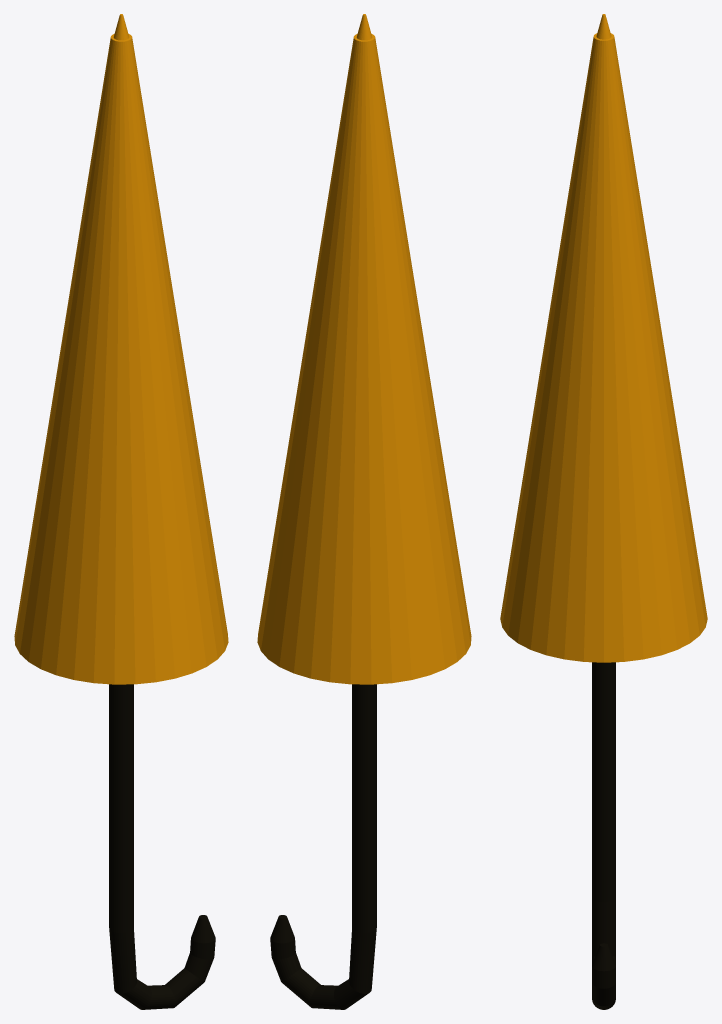
File: umbrella.fbx
3 views of the same model, side by side, from view 1: azimuth 30°, elevation 25°; view 2: azimuth 150°, elevation 25°; view 3: azimuth 270°, elevation 25° (orthographic). The views are drawn at different scales.
Parts seen in each view (by area): view 1: Cylinder.005; view 2: Cylinder.005; view 3: Cylinder.005.
Boxes of the visible parts, x1,y1,x2,y2 form: Cylinder.005: [14, 14, 228, 1009]; Cylinder.005: [257, 14, 471, 1009]; Cylinder.005: [500, 14, 707, 1009].
Size of the model in its own units: 64.36 by 333 by 64.36.
